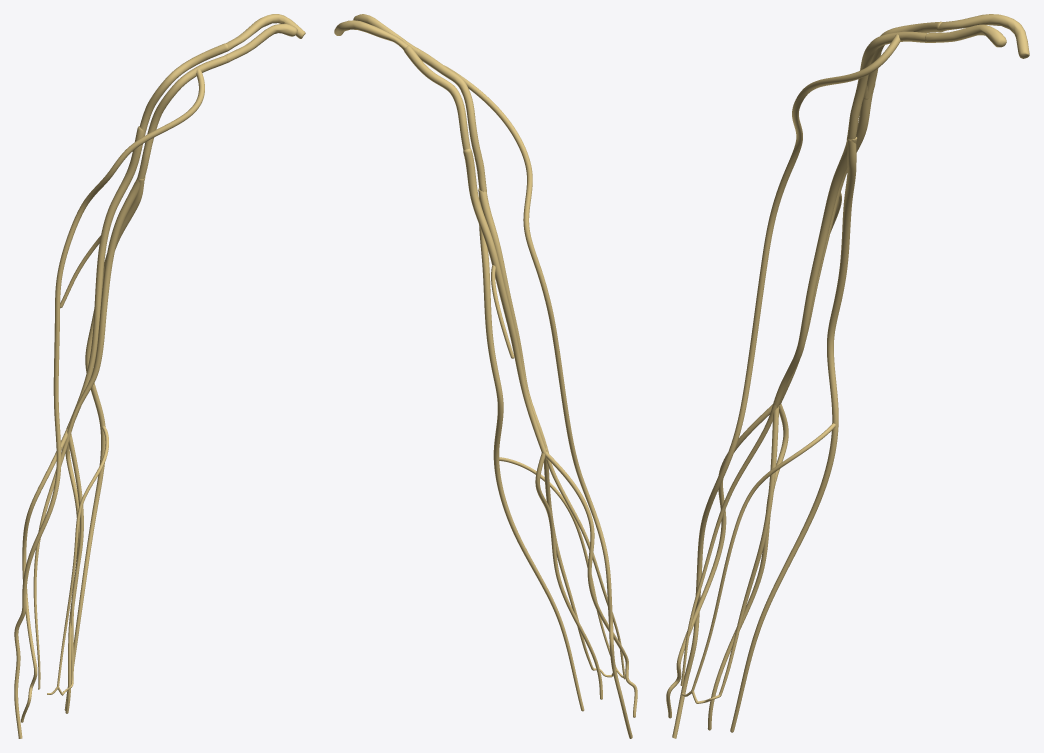
The model's file is upper-right.glb.
3 renders of one model, left to right at view 1: azimuth 30°, elevation 25°; view 2: azimuth 150°, elevation 25°; view 3: azimuth 330°, elevation 25°, orthographic. The views are drawn at different scales.
Parts seen in each view (by area): view 1: bp3d_FMA13325_FJ2272, bp3d_FMA22909_FJ2270, bp3d_FMA22691_FJ2271, bp3d_FMA22935_FJ2341, bp3d_FMA13330_FJ2269, bp3d_FMA22733_FJ2294, bp3d_FMA22655_FJ2268, bp3d_FMA22951_FJ2312, bp3d_FMA22968_FJ2286, bp3d_FMA22948_FJ2296, bp3d_FMA22797_FJ2310, bp3d_FMA3953_FJ3579 (+1 smaller); view 2: bp3d_FMA13325_FJ2272, bp3d_FMA22909_FJ2270, bp3d_FMA22691_FJ2271, bp3d_FMA13330_FJ2269, bp3d_FMA22733_FJ2294, bp3d_FMA22935_FJ2341, bp3d_FMA22797_FJ2310, bp3d_FMA22655_FJ2268, bp3d_FMA22948_FJ2296, bp3d_FMA22951_FJ2312, bp3d_FMA22968_FJ2286, bp3d_FMA3953_FJ3579; view 3: bp3d_FMA13325_FJ2272, bp3d_FMA22909_FJ2270, bp3d_FMA22935_FJ2341, bp3d_FMA22951_FJ2312, bp3d_FMA22733_FJ2294, bp3d_FMA13330_FJ2269, bp3d_FMA22968_FJ2286, bp3d_FMA22797_FJ2310, bp3d_FMA22948_FJ2296, bp3d_FMA3953_FJ3579, bp3d_FMA22691_FJ2271, bp3d_FMA4755_FJ3587 (+1 smaller).
Part boxes in pixels (x1=…): bp3d_FMA13325_FJ2272: x1=14, y1=69, x2=204, y2=738; bp3d_FMA22909_FJ2270: x1=64, y1=178, x2=144, y2=710; bp3d_FMA22691_FJ2271: x1=66, y1=126, x2=144, y2=428; bp3d_FMA22935_FJ2341: x1=67, y1=177, x2=145, y2=433; bp3d_FMA13330_FJ2269: x1=137, y1=56, x2=227, y2=180; bp3d_FMA22733_FJ2294: x1=20, y1=429, x2=67, y2=722; bp3d_FMA22655_FJ2268: x1=139, y1=43, x2=227, y2=135; bp3d_FMA22951_FJ2312: x1=62, y1=429, x2=83, y2=695; bp3d_FMA22968_FJ2286: x1=47, y1=426, x2=108, y2=695; bp3d_FMA22948_FJ2296: x1=33, y1=427, x2=71, y2=689; bp3d_FMA22797_FJ2310: x1=65, y1=443, x2=79, y2=713; bp3d_FMA3953_FJ3579: x1=226, y1=14, x2=305, y2=51; bp3d_FMA13325_FJ2272: x1=444, y1=65, x2=632, y2=738; bp3d_FMA22909_FJ2270: x1=479, y1=189, x2=584, y2=711; bp3d_FMA22691_FJ2271: x1=463, y1=148, x2=546, y2=453; bp3d_FMA13330_FJ2269: x1=416, y1=50, x2=486, y2=191; bp3d_FMA22733_FJ2294: x1=545, y1=451, x2=637, y2=717; bp3d_FMA22935_FJ2341: x1=478, y1=188, x2=548, y2=452; bp3d_FMA22797_FJ2310: x1=535, y1=453, x2=602, y2=699; bp3d_FMA22655_FJ2268: x1=404, y1=45, x2=470, y2=150; bp3d_FMA22948_FJ2296: x1=546, y1=448, x2=625, y2=679; bp3d_FMA22951_FJ2312: x1=543, y1=452, x2=612, y2=677; bp3d_FMA22968_FJ2286: x1=499, y1=457, x2=623, y2=677; bp3d_FMA3953_FJ3579: x1=334, y1=20, x2=408, y2=50; bp3d_FMA13325_FJ2272: x1=672, y1=34, x2=900, y2=738; bp3d_FMA22909_FJ2270: x1=730, y1=137, x2=856, y2=732; bp3d_FMA22935_FJ2341: x1=772, y1=137, x2=857, y2=407; bp3d_FMA22951_FJ2312: x1=696, y1=406, x2=779, y2=703; bp3d_FMA22733_FJ2294: x1=666, y1=404, x2=772, y2=718; bp3d_FMA13330_FJ2269: x1=846, y1=31, x2=933, y2=139; bp3d_FMA22968_FJ2286: x1=681, y1=423, x2=835, y2=703; bp3d_FMA22797_FJ2310: x1=707, y1=404, x2=788, y2=730; bp3d_FMA22948_FJ2296: x1=680, y1=405, x2=776, y2=686; bp3d_FMA3953_FJ3579: x1=938, y1=14, x2=1029, y2=58; bp3d_FMA22691_FJ2271: x1=779, y1=84, x2=875, y2=404; bp3d_FMA4755_FJ3587: x1=925, y1=24, x2=1006, y2=47.
Size of the model in its own units: 0.2698 by 0.5786 by 0.0824.
